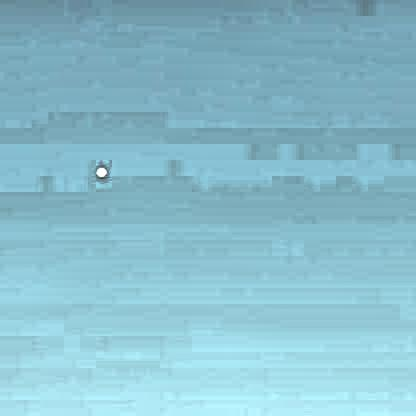golfball: (92, 163, 106, 177)
